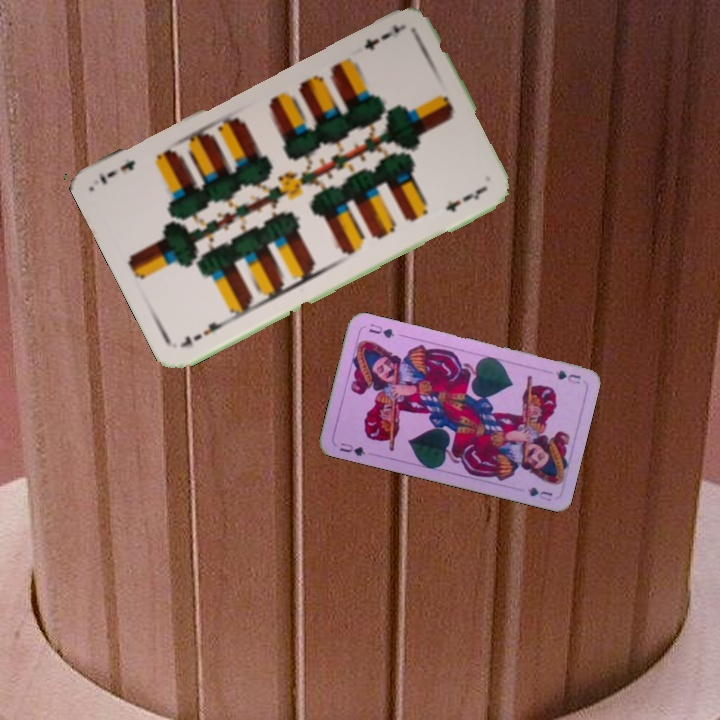E7: (176, 315, 232, 350), (359, 20, 407, 53)
GU: (335, 439, 368, 459), (551, 366, 583, 386)
